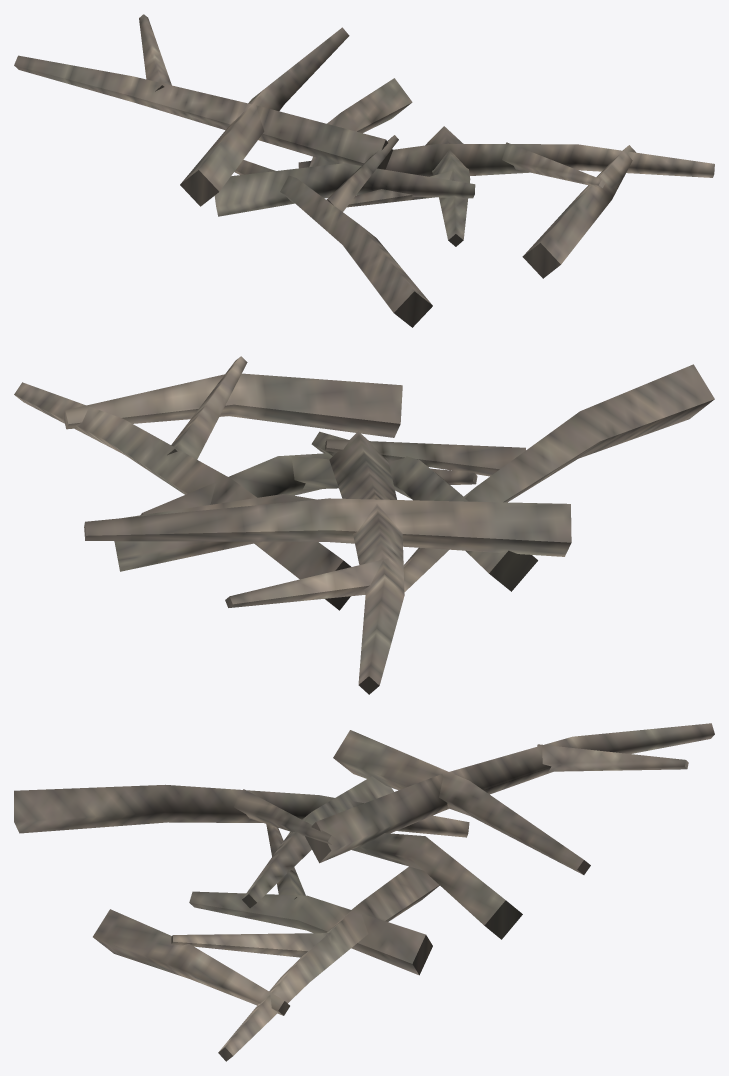
File: twigs_02.glb
The picture shows the model from 3 angles, top to bottom: view 1: azimuth 30°, elevation 25°; view 2: azimuth 150°, elevation 25°; view 3: azimuth 270°, elevation 25°; orthographic projection. The views are drawn at different scales.
Parts seen in each view (by area): view 1: twigs_02; view 2: twigs_02; view 3: twigs_02.
Boxes of the visible parts, x1,y1,x2,y2 form: twigs_02: (14,14,714,327); twigs_02: (14,356,714,694); twigs_02: (14,723,714,1061).
Bounding box in the file's own units: 0.5584 × 0.1195 × 0.637.
1 material, 1 textured.
